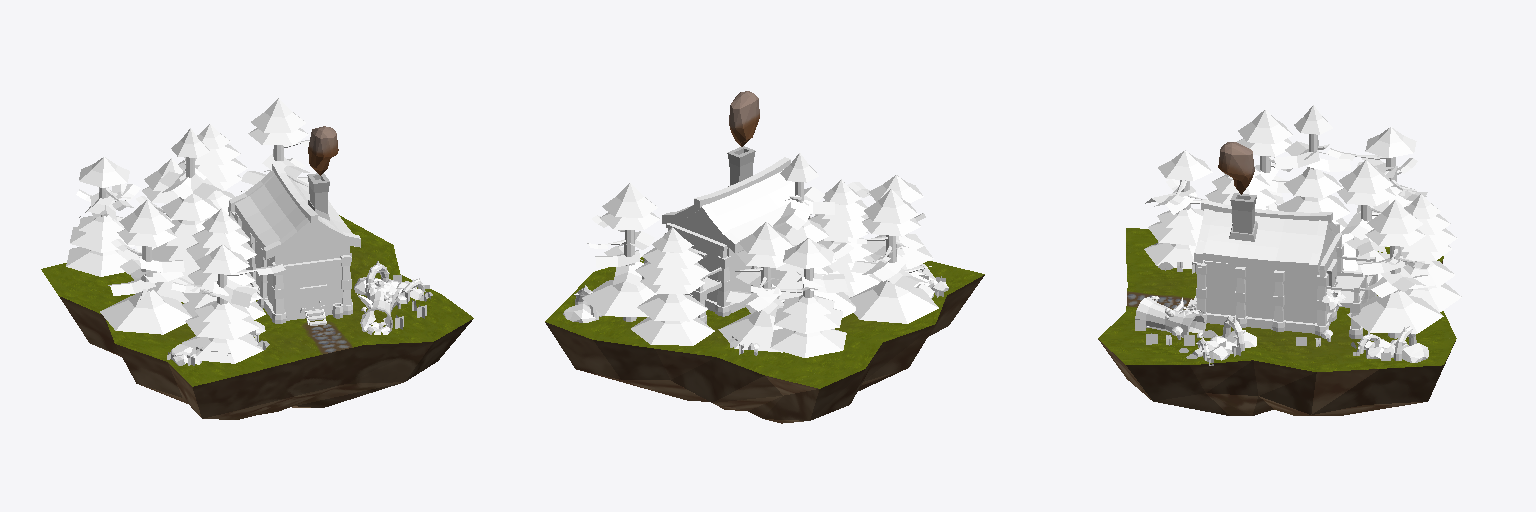
The picture shows the model from 3 angles: view 1: azimuth 30°, elevation 25°; view 2: azimuth 150°, elevation 25°; view 3: azimuth 270°, elevation 25°; orthographic projection.
Visible parts, largest first — view 1: Pinheiro_conjunto.001_Torre_Radio.002, Plane_Plane.006, Casa_05_Cube.041, Tronco_caído_pronto_Plane.008, Icosphere, Chamine_Cube.007; view 2: Pinheiro_conjunto.001_Torre_Radio.002, Plane_Plane.006, Casa_05_Cube.041, Tronco_caído_pronto_Plane.008, Icosphere, Chamine_Cube.007; view 3: Pinheiro_conjunto.001_Torre_Radio.002, Plane_Plane.006, Casa_05_Cube.041, Tronco_caído_pronto_Plane.008, Icosphere, Chamine_Cube.007.
Part boxes in pixels (bbox=[...]): Pinheiro_conjunto.001_Torre_Radio.002: bbox=[66, 98, 309, 363]; Plane_Plane.006: bbox=[41, 215, 473, 419]; Casa_05_Cube.041: bbox=[228, 161, 360, 325]; Tronco_caído_pronto_Plane.008: bbox=[167, 253, 432, 365]; Icosphere: bbox=[308, 126, 338, 175]; Chamine_Cube.007: bbox=[307, 173, 329, 220]; Pinheiro_conjunto.001_Torre_Radio.002: bbox=[582, 153, 938, 357]; Plane_Plane.006: bbox=[545, 257, 984, 423]; Casa_05_Cube.041: bbox=[642, 157, 817, 323]; Tronco_caído_pronto_Plane.008: bbox=[563, 233, 948, 355]; Icosphere: bbox=[729, 91, 759, 146]; Chamine_Cube.007: bbox=[727, 146, 755, 186]; Pinheiro_conjunto.001_Torre_Radio.002: bbox=[1144, 105, 1461, 338]; Plane_Plane.006: bbox=[1098, 228, 1456, 415]; Casa_05_Cube.041: bbox=[1187, 200, 1377, 338]; Tronco_caído_pronto_Plane.008: bbox=[1135, 243, 1428, 365]; Icosphere: bbox=[1218, 142, 1254, 194]; Chamine_Cube.007: bbox=[1229, 193, 1257, 241].
Bounding box in the file's own units: 26.55 × 22.03 × 26.91.
Materials: 7 (1 with a texture image).